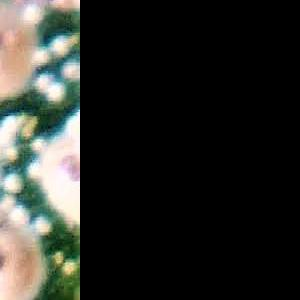Femea: (45, 132, 79, 221)
Linfa: (0, 106, 32, 159), (30, 212, 51, 236), (8, 206, 31, 227), (0, 175, 25, 193), (51, 33, 70, 56), (47, 84, 65, 104), (37, 74, 55, 93), (26, 46, 45, 64), (21, 6, 40, 24), (62, 62, 80, 79)
